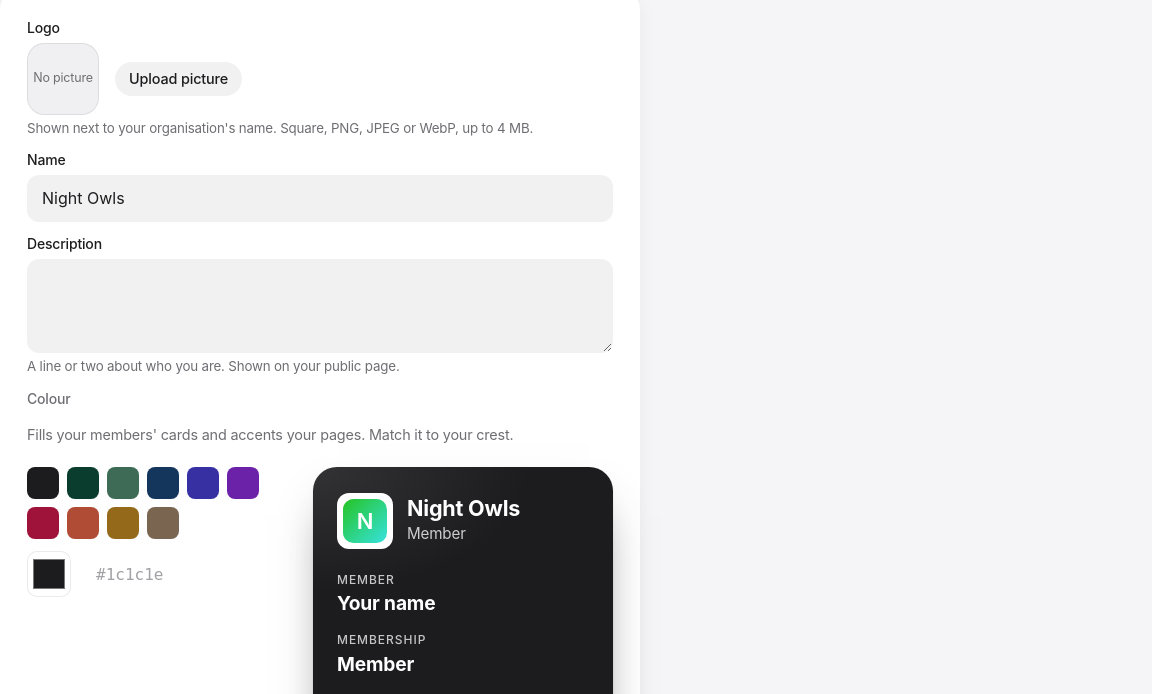
it: SettingsTab › saves the colour picked for the member cards
This screenshot has width=1152, height=694.
Click the radio button named "#9f1239" at (43,523), box [27, 507, 59, 539]
(page scrolled)
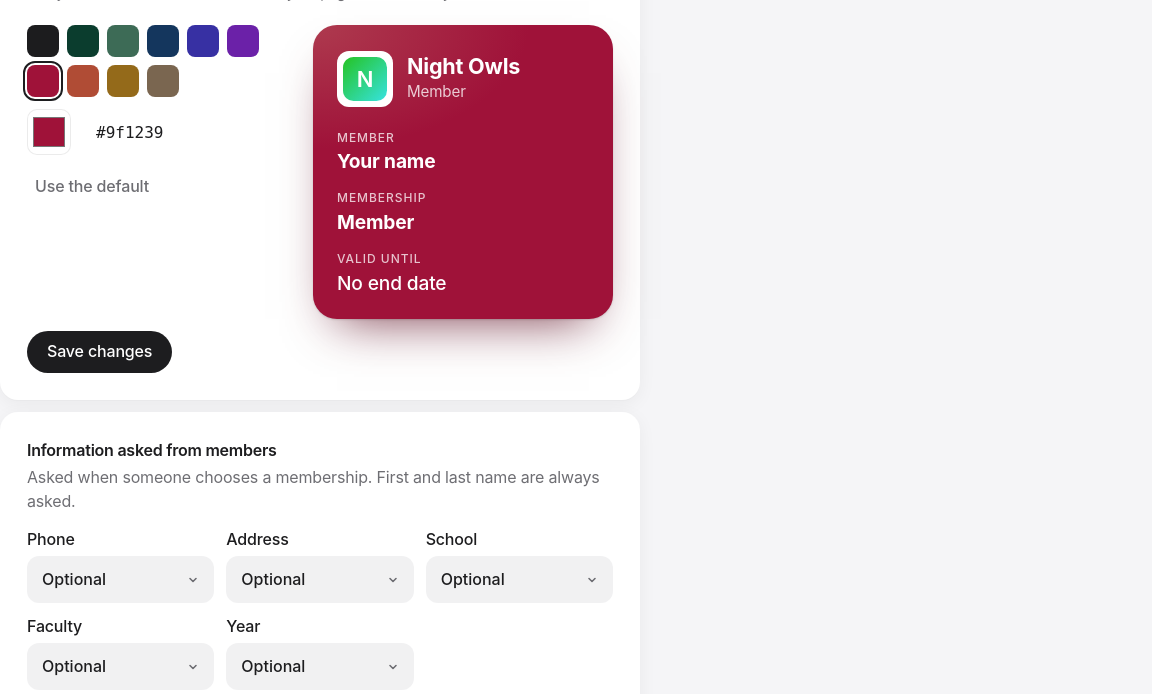
Click the button "Save changes" at (100,352), box [27, 331, 172, 373]
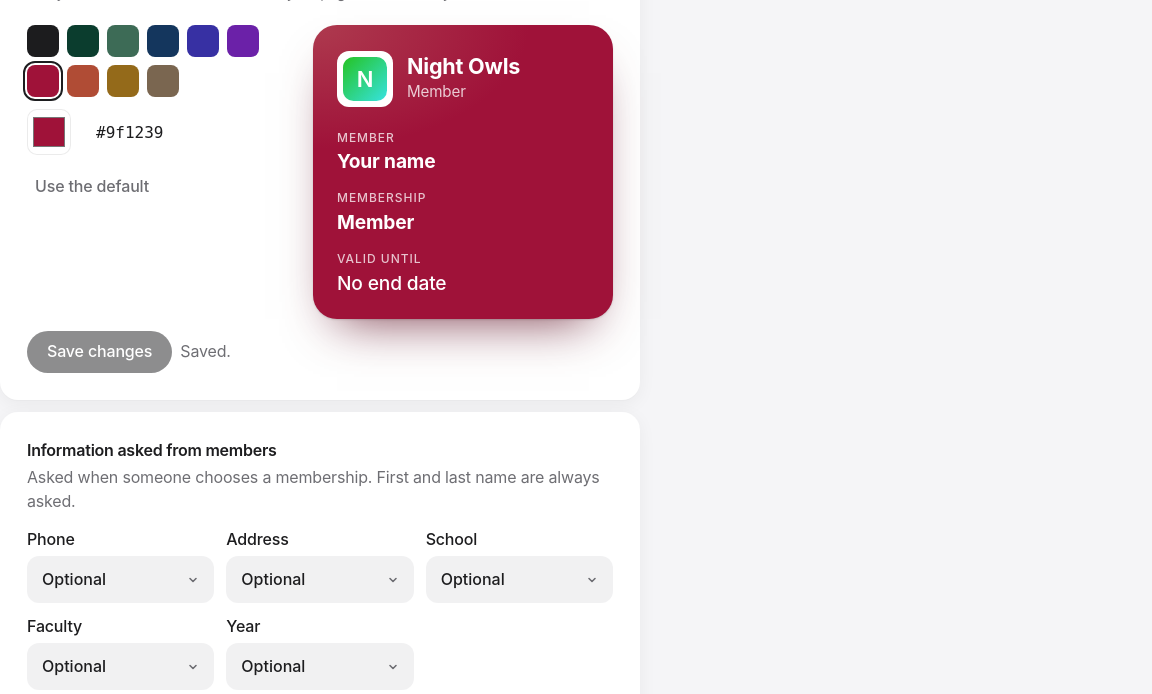
expect the text "Saved." is shown: met, box [180, 340, 231, 363]
